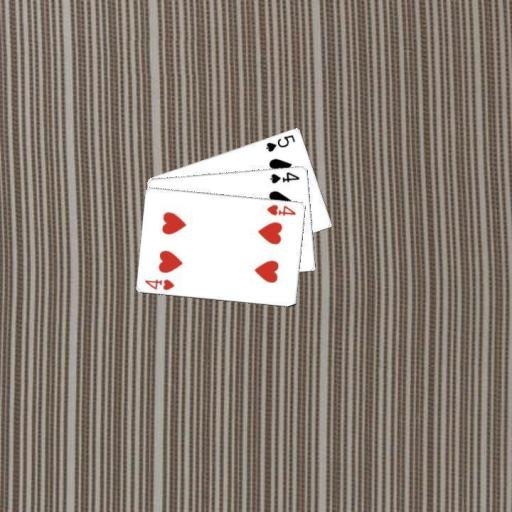card-corner: (263, 131, 297, 153), (267, 168, 301, 185), (142, 275, 176, 292), (264, 201, 297, 217)
